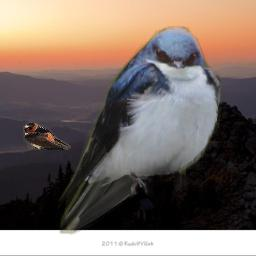Swallow: (54, 25, 223, 235), (23, 122, 71, 150)
